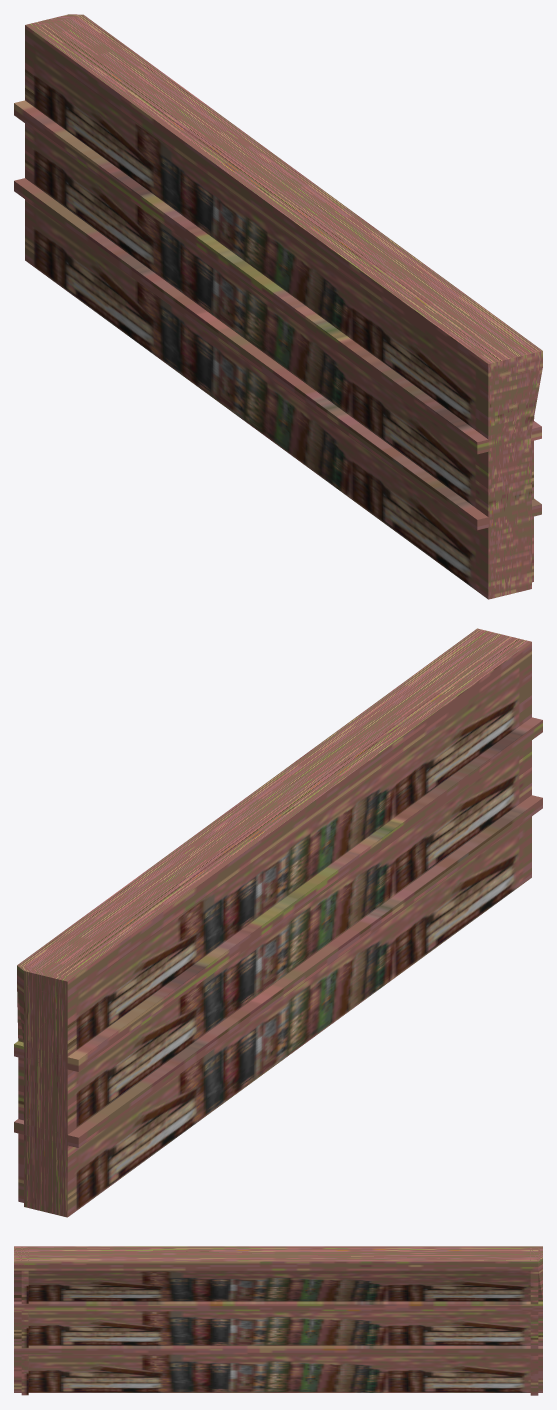
The model's file is libraryshelfesfbx.fbx.
3 views of the same model, one above another, from view 1: azimuth 30°, elevation 25°; view 2: azimuth 150°, elevation 25°; view 3: azimuth 270°, elevation 25° (orthographic). The views are drawn at different scales.
Parts seen in each view (by area): view 1: pCube1; view 2: pCube1; view 3: pCube1.
Part boxes in pixels (x1=…): pCube1: x1=14, y1=14, x2=542, y2=599; pCube1: x1=14, y1=628, x2=542, y2=1217; pCube1: x1=14, y1=1246, x2=542, y2=1395.
Bounding box in the file's own units: 0.7993 × 2.74 × 9.78.
Materials: 1 (1 with a texture image).
